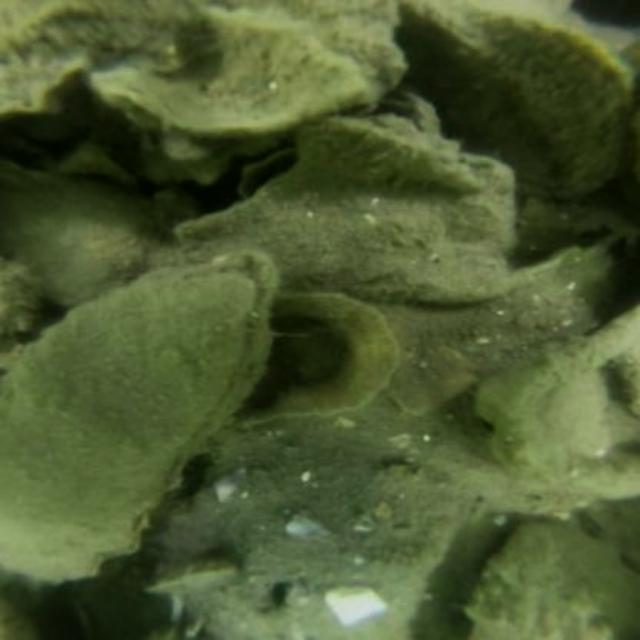Oyster-Closed: (2, 253, 280, 574), (169, 119, 514, 303), (135, 447, 448, 638), (406, 5, 625, 199), (215, 288, 404, 427), (11, 0, 202, 115), (199, 552, 432, 638), (7, 168, 150, 303), (466, 524, 628, 638), (287, 116, 489, 192), (2, 260, 38, 341)
